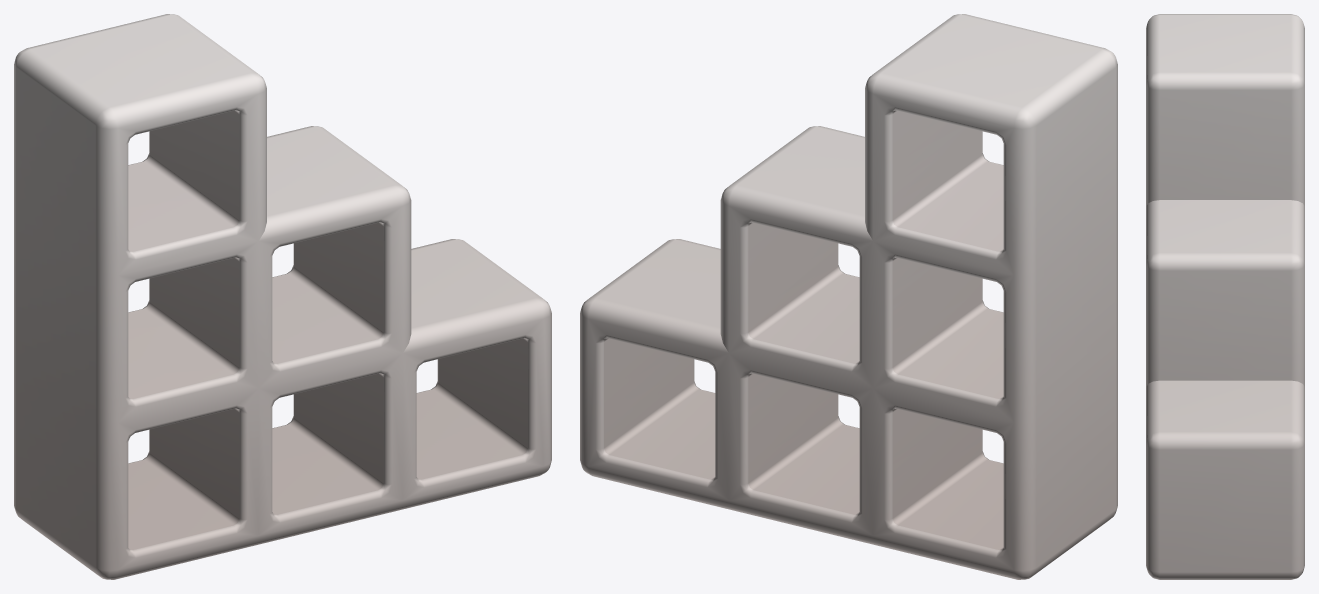
Rendered from Shelving_03.glb.
3 renders of one model, left to right at view 1: azimuth 30°, elevation 25°; view 2: azimuth 150°, elevation 25°; view 3: azimuth 270°, elevation 25°, orthographic. The views are drawn at different scales.
Visible parts, largest first — view 1: Shelving_03; view 2: Shelving_03; view 3: Shelving_03.
Part boxes in pixels (x1,y1,x2,y2): Shelving_03: (14,14,551,579); Shelving_03: (580,14,1117,579); Shelving_03: (1146,14,1304,579).
Bounding box in the file's own units: 1.09 × 1.08 × 0.3987.
Materials: 1 (1 with a texture image).
